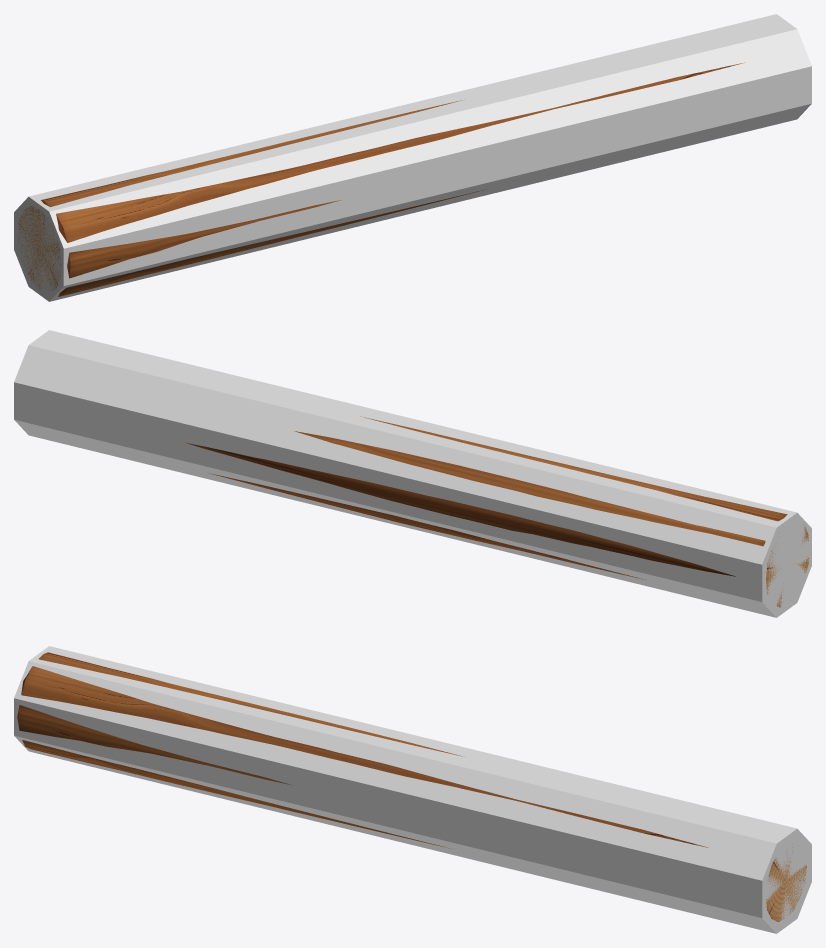
Rendered from IO_Log_Long_A.glb.
3 renders of one model, top to bottom at view 1: azimuth 30°, elevation 25°; view 2: azimuth 150°, elevation 25°; view 3: azimuth 330°, elevation 25°, orthographic.
Visible parts, largest first — view 1: IO_Log_Long_A_COL, IO_Log_Long_A_LOD0; view 2: IO_Log_Long_A_COL, IO_Log_Long_A_LOD0; view 3: IO_Log_Long_A_COL, IO_Log_Long_A_LOD0.
Boxes of the visible parts, <box> form: IO_Log_Long_A_COL: <box>14,14,811,301</box>; IO_Log_Long_A_LOD0: <box>18,62,744,296</box>; IO_Log_Long_A_COL: <box>14,330,811,617</box>; IO_Log_Long_A_LOD0: <box>185,416,808,607</box>; IO_Log_Long_A_COL: <box>14,646,811,933</box>; IO_Log_Long_A_LOD0: <box>17,652,806,921</box>.
Size of what is drawn, in the model's own units: 3 by 0.3579 by 0.3615.
Materials: 1 (1 with a texture image).
